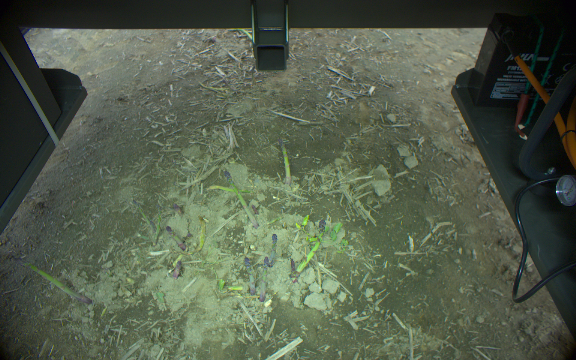aspa: (18, 256, 94, 307), (223, 167, 258, 229), (295, 218, 327, 277), (278, 137, 292, 188), (131, 199, 151, 230), (204, 182, 252, 194), (193, 216, 207, 252), (165, 225, 185, 250), (244, 256, 257, 294), (260, 257, 270, 301), (268, 231, 278, 264), (173, 261, 183, 279), (172, 203, 184, 218), (289, 258, 297, 279), (147, 220, 159, 233)
